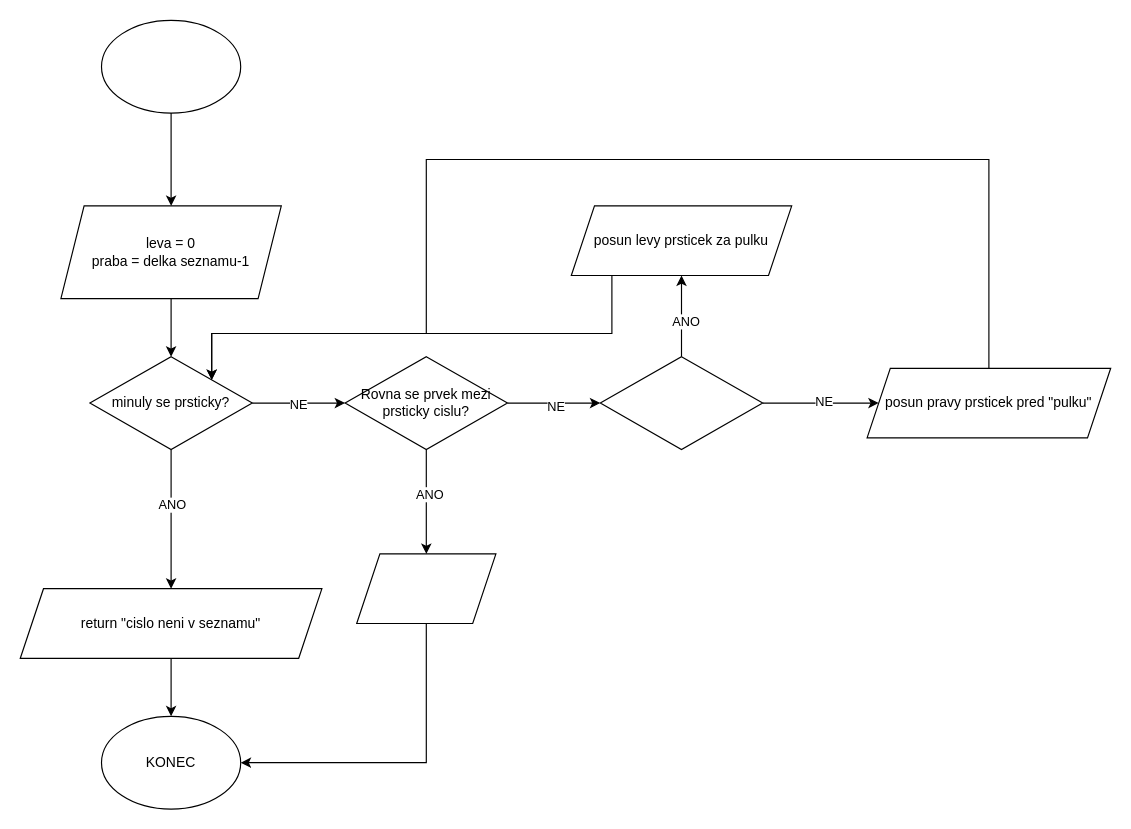
Some shapes in this 1131 by 829 pixel diagram are drawn without their labels. The shapes that lost their labels are listed below. From the top down, each one's centre as x and y in pixels, then its label:
(170,66): START
(681,402): je prvek vetsi nez cislo?
(426,588): return index
